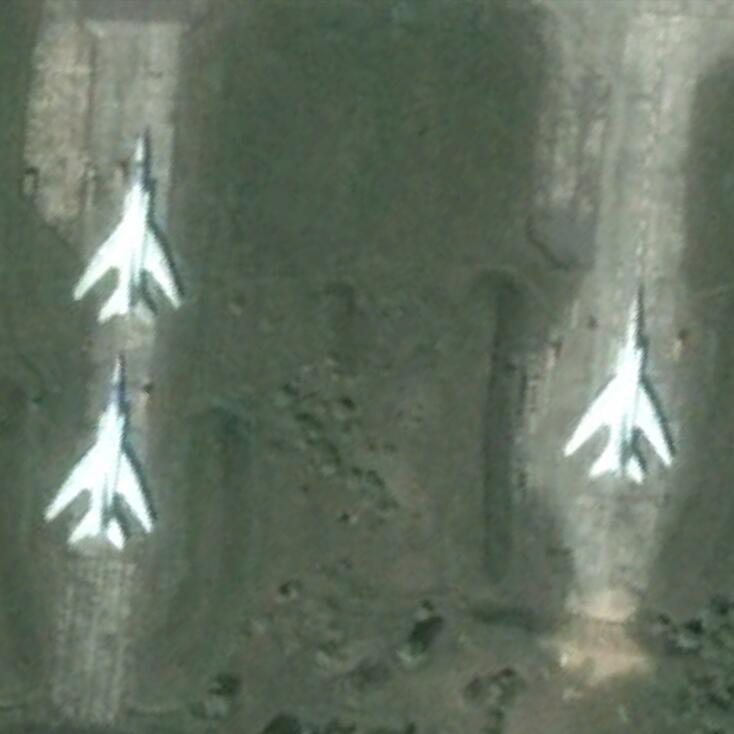A12: (68, 127, 190, 326), (562, 279, 678, 488), (44, 349, 155, 551)
